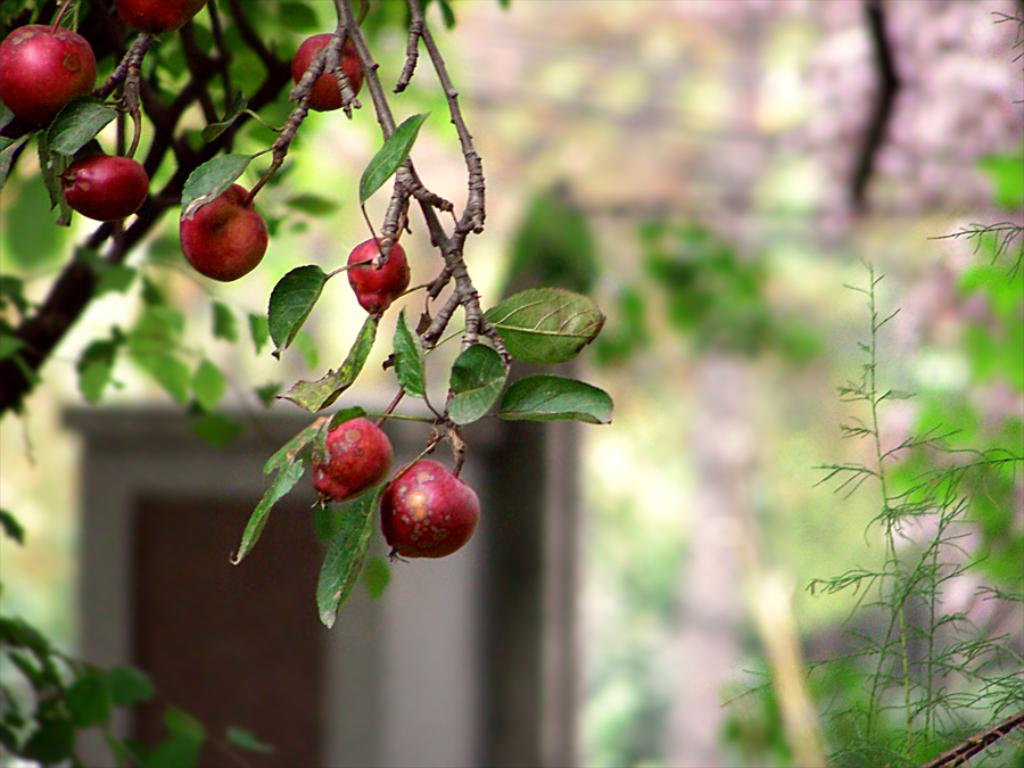Apple: (0, 12, 85, 106)
